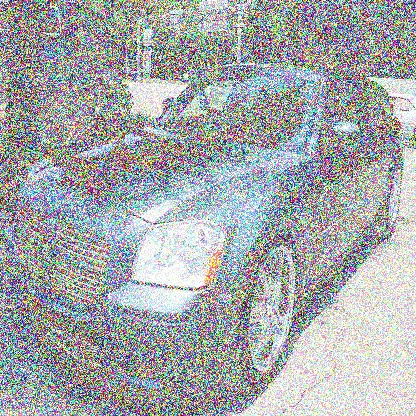Vehicle: (10, 64, 405, 398)
